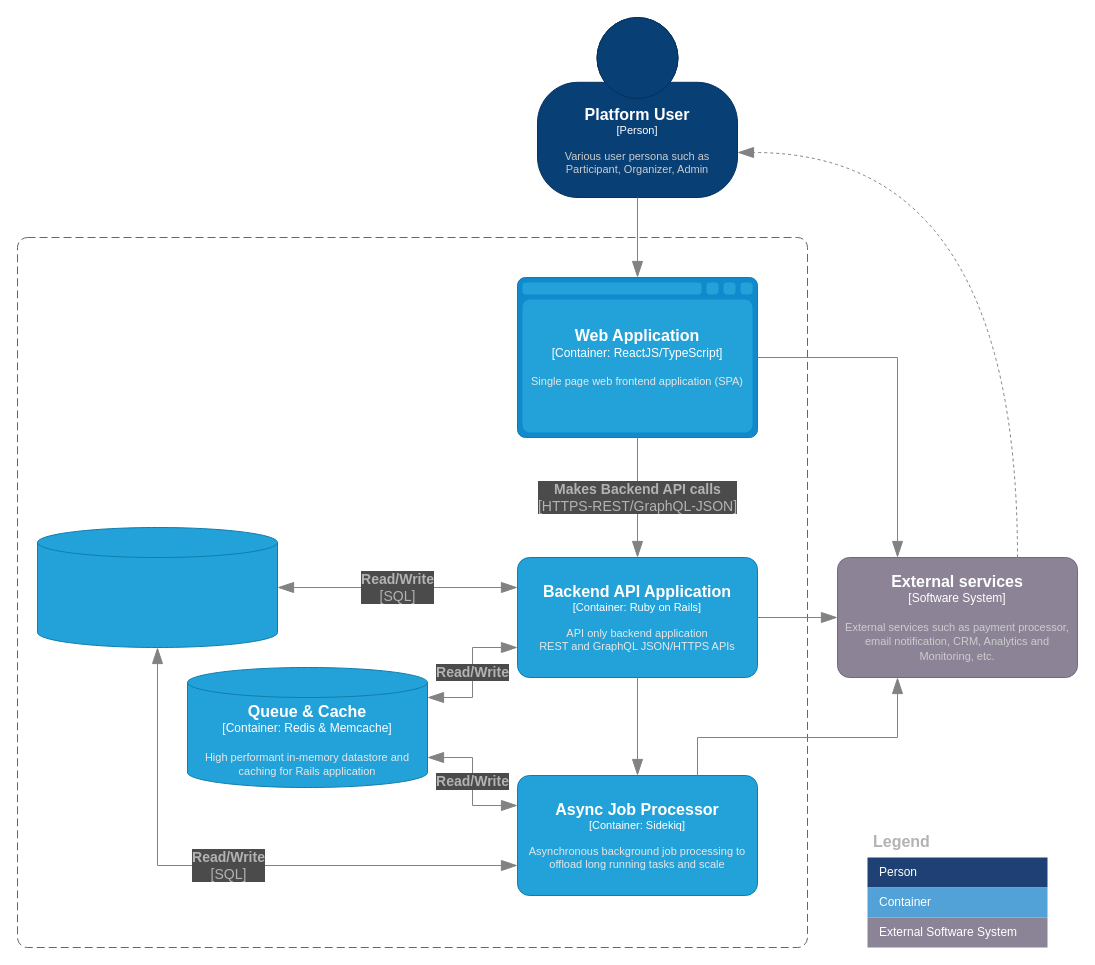
The diagram is 1095 pixels wide and 965 high, and some of its shapes have lost their labels. The shapes that lost their labels are listed below. From the top down, each one's box as (x1, y1, x2, y2) in pixels, then its label:
(36, 526, 278, 648): Database [Container: PostgreSQL] Persistent relational data store
(16, 236, 808, 948): Event-Radar [Event Management System]
